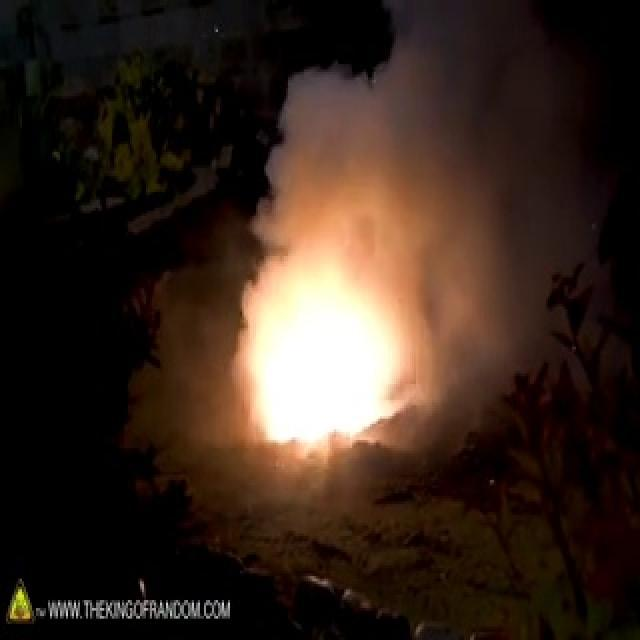fire: (261, 206, 419, 446)
